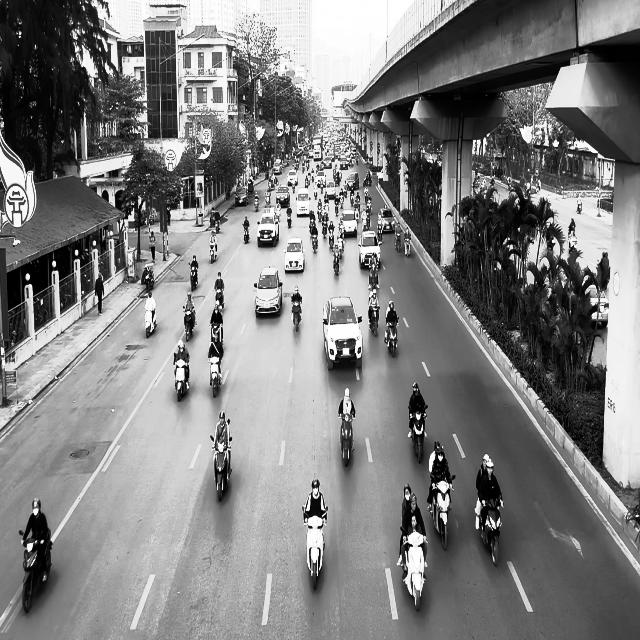bus: (312, 136, 322, 160)
car: (322, 295, 363, 370), (253, 267, 283, 315), (582, 284, 609, 328), (358, 230, 381, 268), (283, 237, 305, 273), (257, 212, 279, 247), (341, 209, 358, 237), (377, 207, 395, 233), (296, 188, 310, 216), (276, 185, 290, 207), (235, 186, 248, 206), (345, 172, 359, 190), (325, 179, 336, 198), (287, 170, 298, 186)
motorbike: (18, 528, 52, 612), (302, 505, 327, 590), (401, 530, 426, 611), (475, 497, 504, 566), (429, 474, 455, 550), (210, 432, 232, 502), (408, 406, 428, 463), (338, 412, 355, 466), (173, 353, 190, 402), (208, 351, 223, 397), (384, 318, 399, 357), (182, 305, 196, 341), (144, 306, 157, 338), (291, 296, 302, 330), (142, 264, 154, 292), (368, 306, 379, 336), (332, 243, 341, 275), (210, 321, 222, 345), (189, 262, 198, 290), (214, 286, 224, 310), (209, 238, 217, 263), (310, 230, 318, 253), (404, 236, 411, 257), (243, 224, 250, 244), (394, 231, 401, 251), (286, 208, 292, 228), (254, 195, 259, 211)
